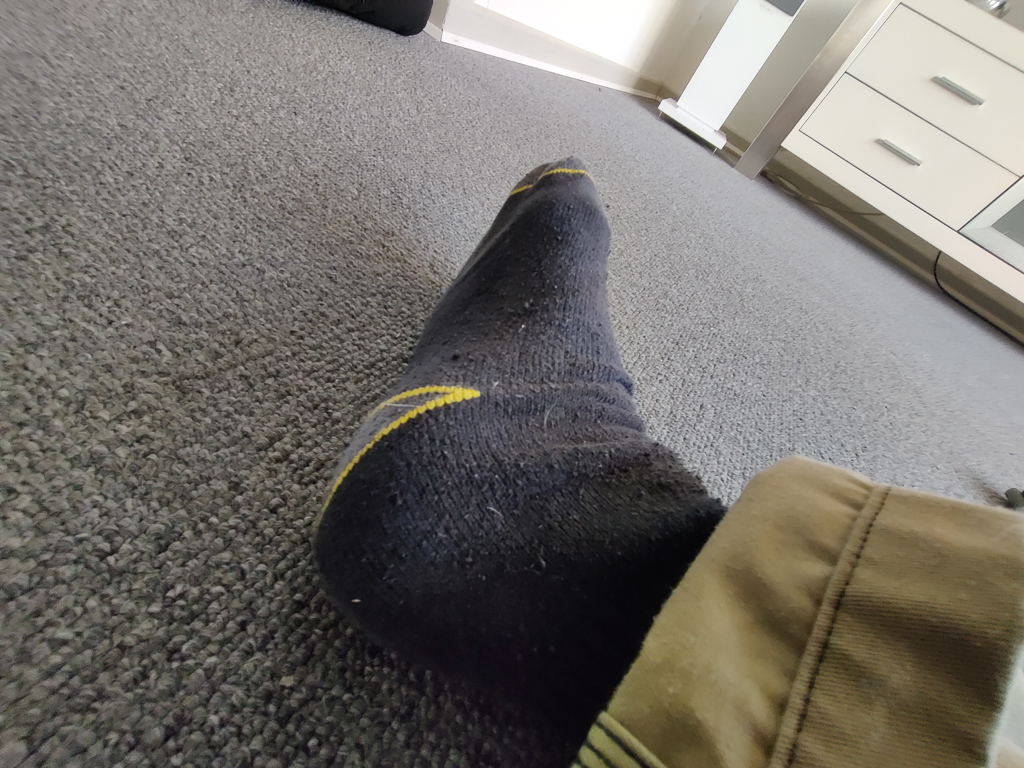Humanoid: (288, 145, 1024, 768), (998, 481, 1024, 519)
